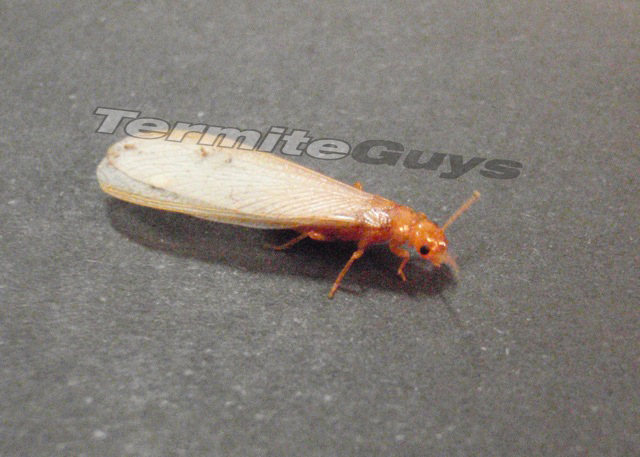flying termite: (90, 114, 487, 334)
